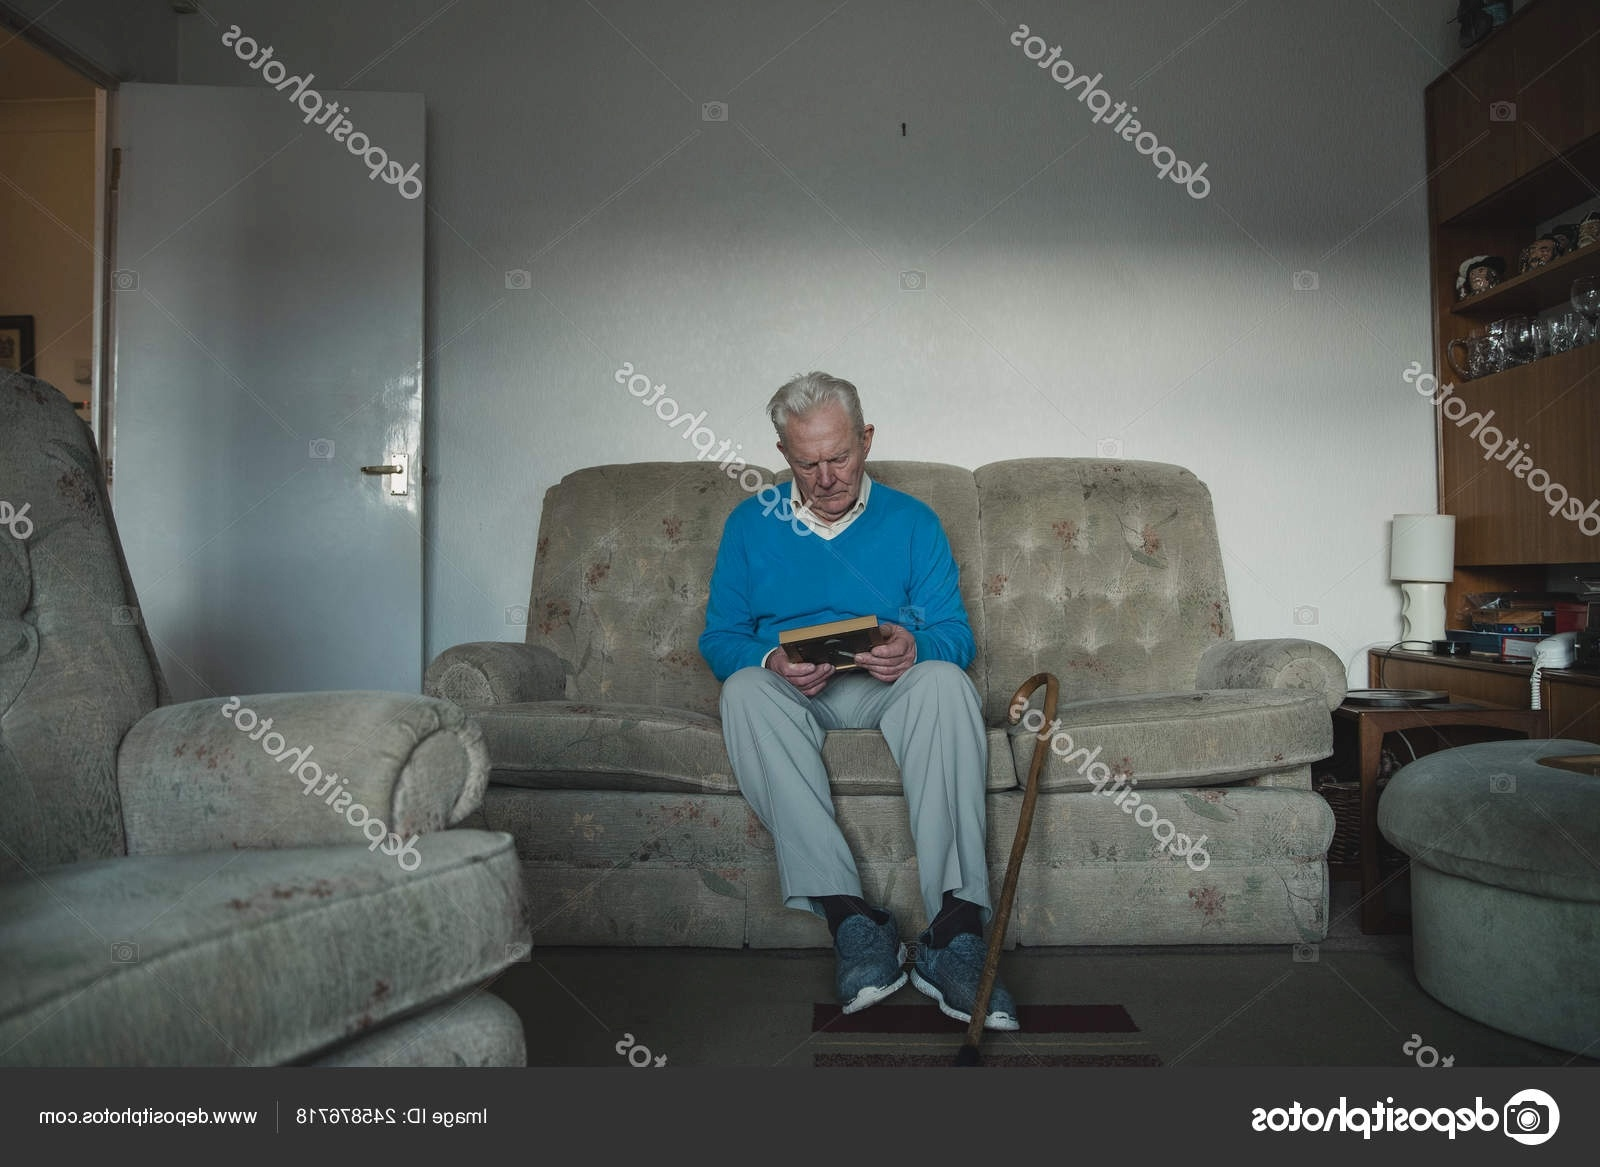not_fallen: (717, 355, 1026, 1053)
